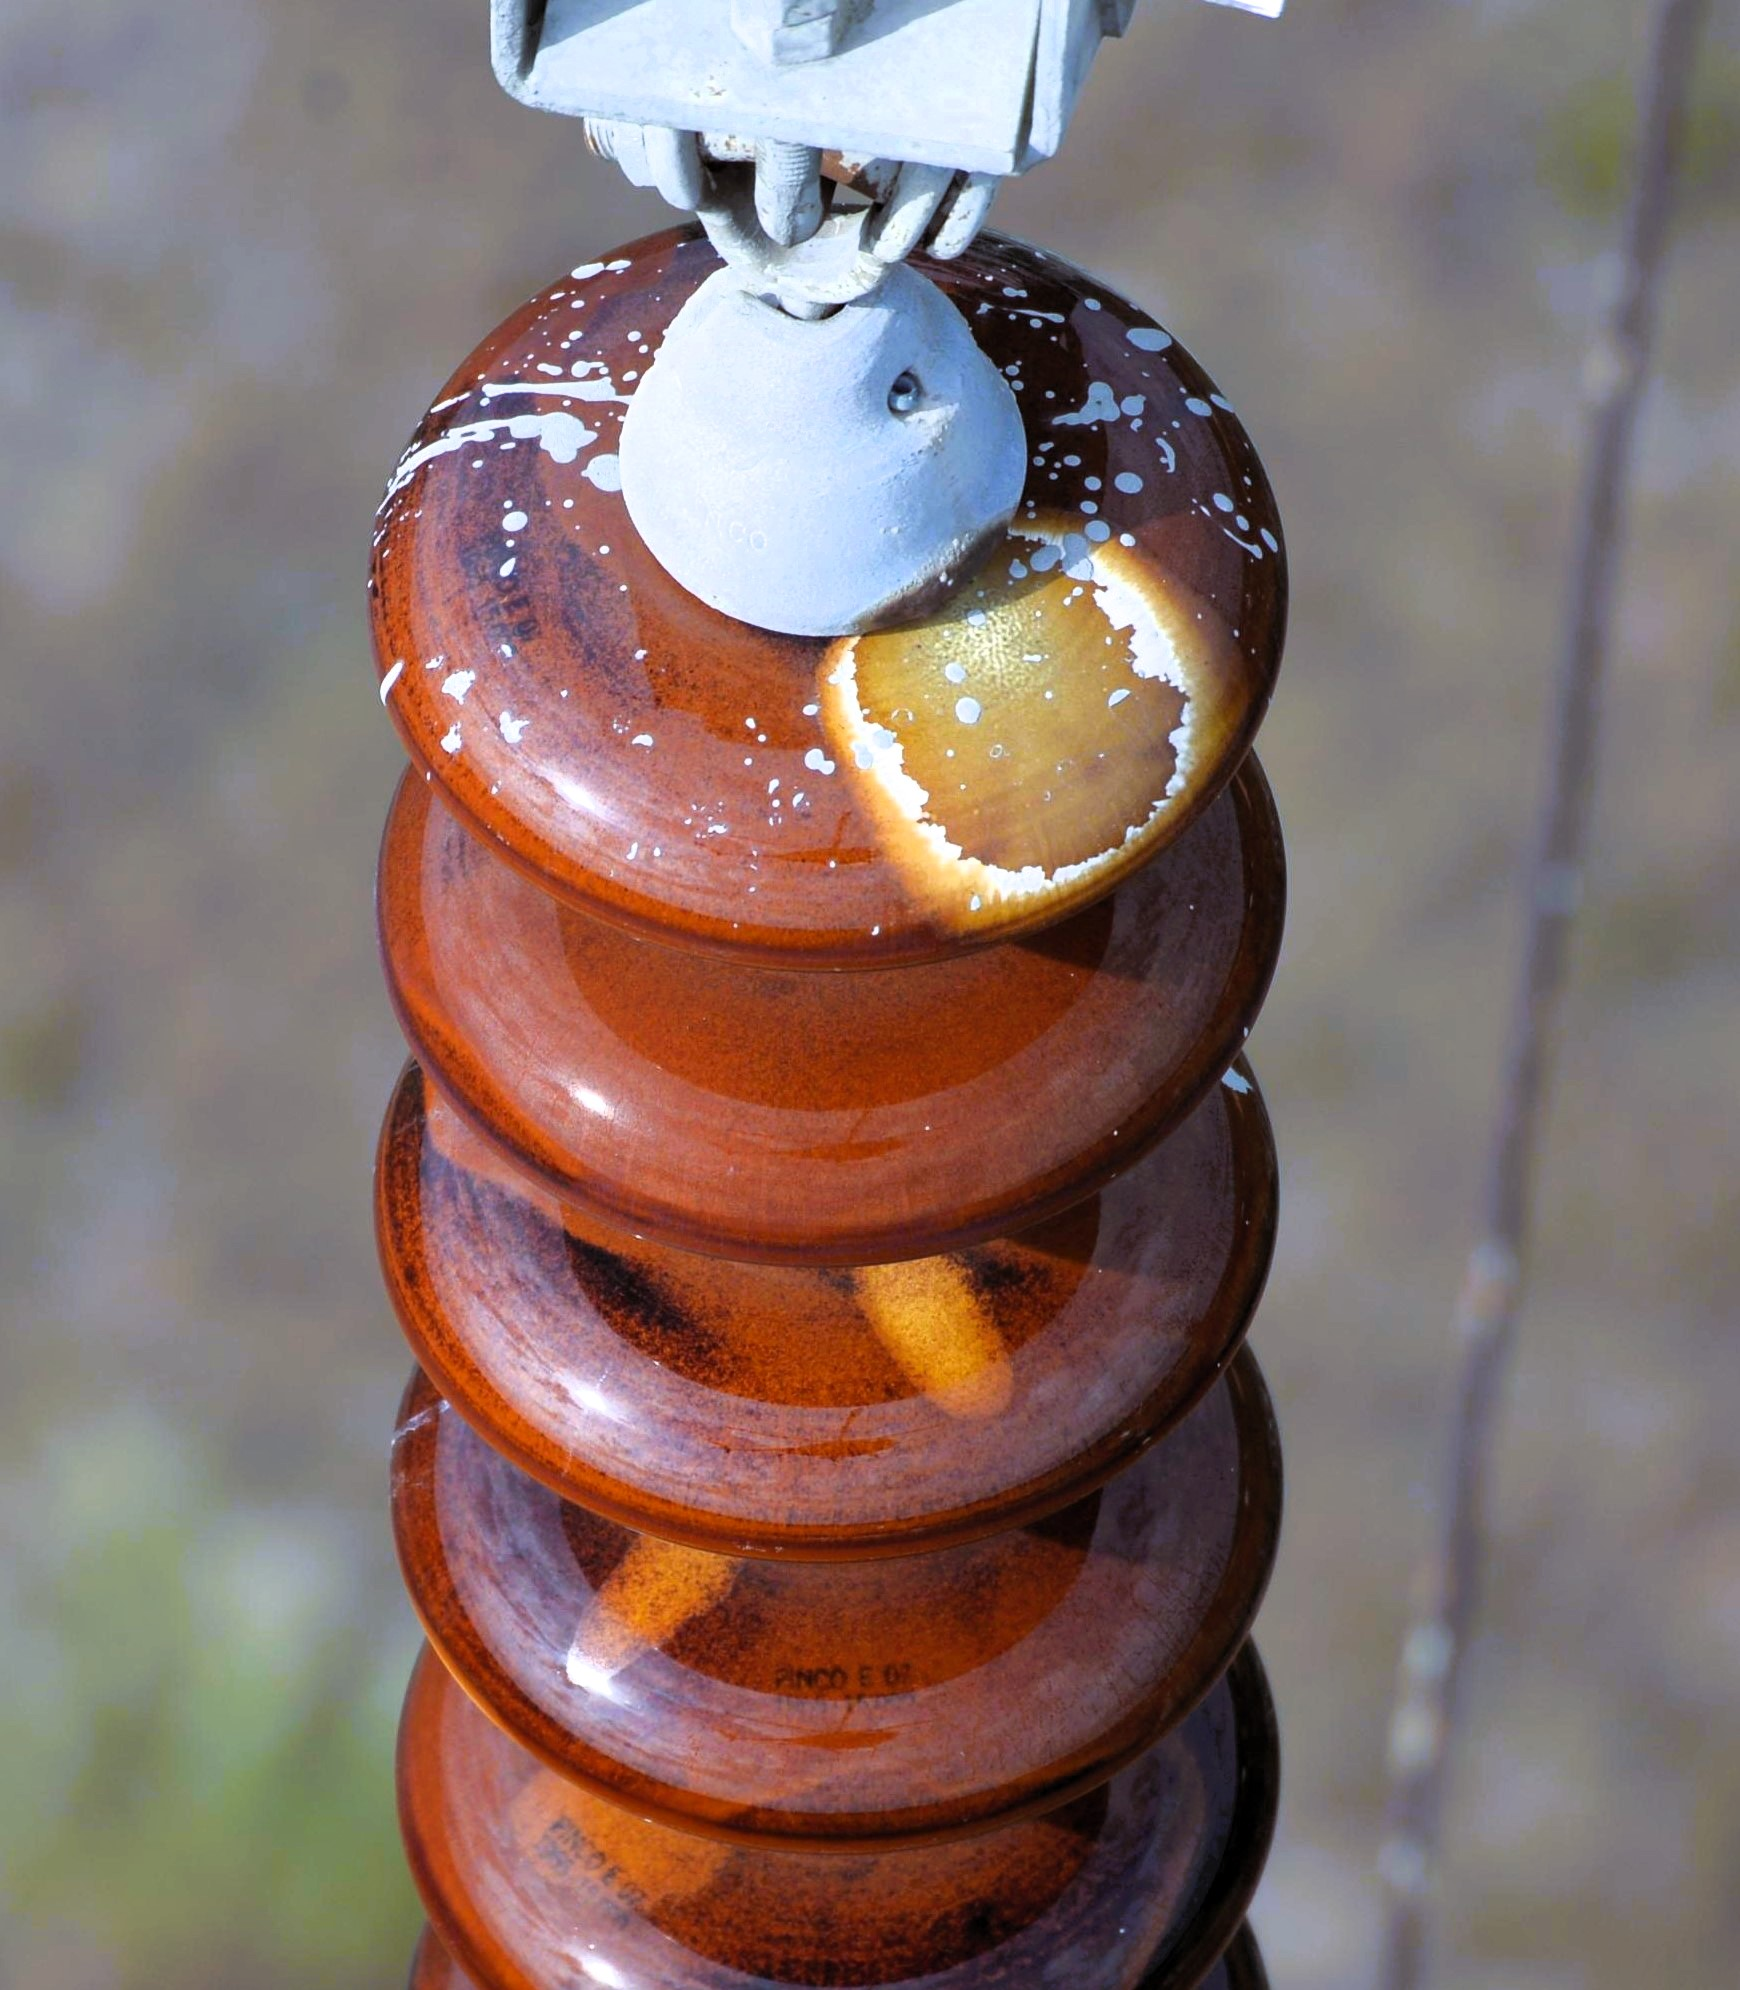Insulator flashover: (350, 200, 1312, 954)
